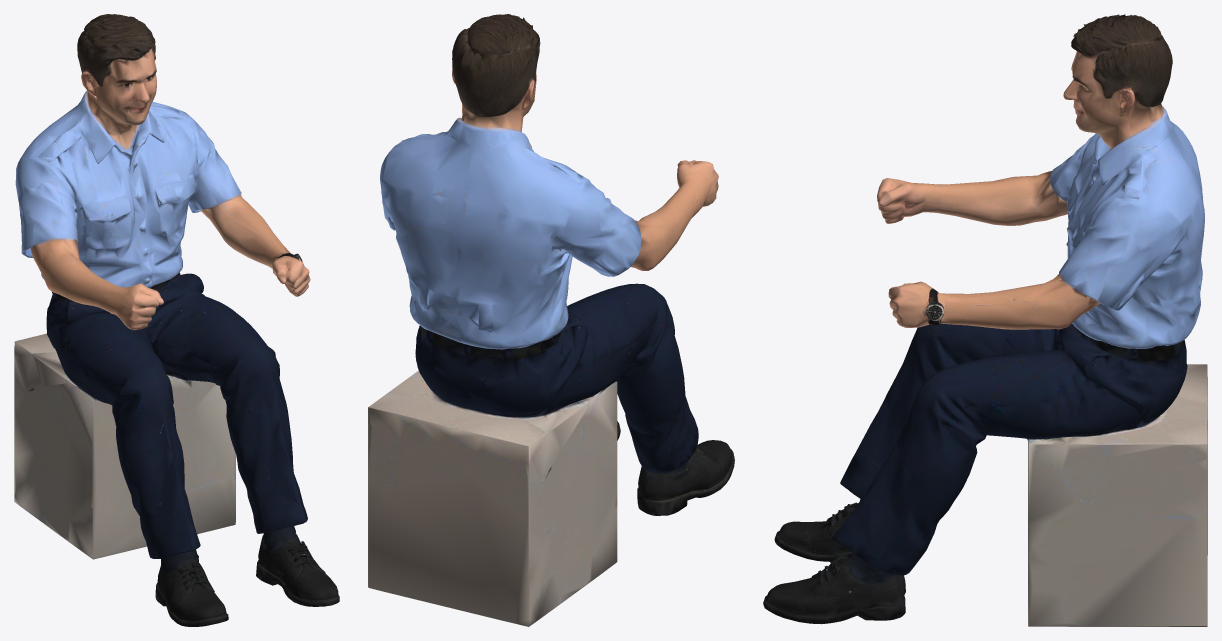
The model's file is conductor-persona.glb.
The picture shows the model from 3 angles, left to right: view 1: azimuth 30°, elevation 25°; view 2: azimuth 150°, elevation 25°; view 3: azimuth 270°, elevation 25°; orthographic projection. The views are drawn at different scales.
Size of the model in its own units: 0.8792 by 1.9 by 1.36.
Materials: 1 (1 with a texture image).
